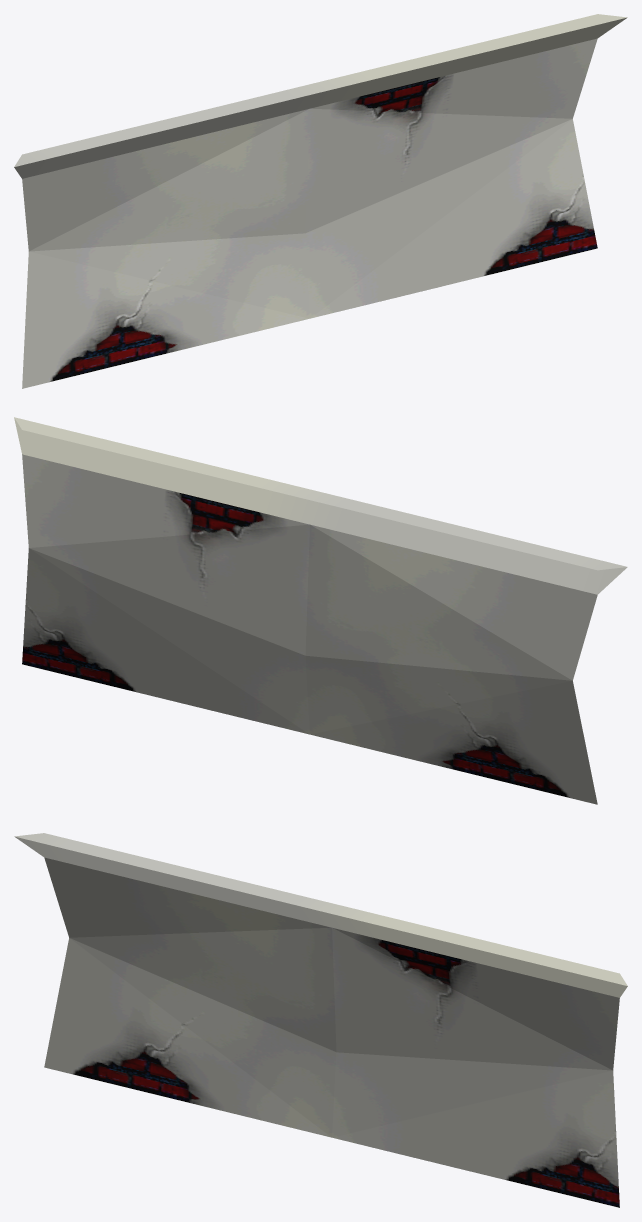
Rendered from W_A1_xxxx_335.glb.
The picture shows the model from 3 angles, top to bottom: view 1: azimuth 30°, elevation 25°; view 2: azimuth 150°, elevation 25°; view 3: azimuth 330°, elevation 25°; orthographic projection.
Parts seen in each view (by area): view 1: polySurfaceShape787, polySurfaceShape1065; view 2: polySurfaceShape787, polySurfaceShape1065; view 3: polySurfaceShape787, polySurfaceShape1065.
Boxes of the visible parts, x1,y1,x2,y2 form: polySurfaceShape787: [22, 38, 597, 388]; polySurfaceShape1065: [14, 14, 627, 178]; polySurfaceShape787: [22, 454, 597, 804]; polySurfaceShape1065: [14, 417, 627, 594]; polySurfaceShape787: [44, 857, 619, 1207]; polySurfaceShape1065: [14, 833, 627, 997].
Bounding box in the file's own units: 1.07 × 0.3891 × 0.0607.
2 materials, 2 textured.
